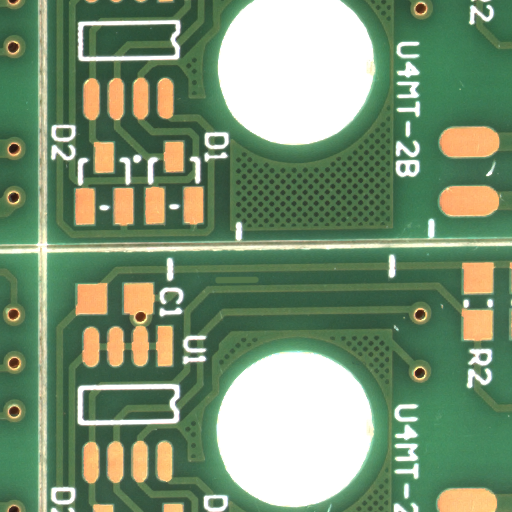Spurious_copper: (236, 280, 282, 290)
